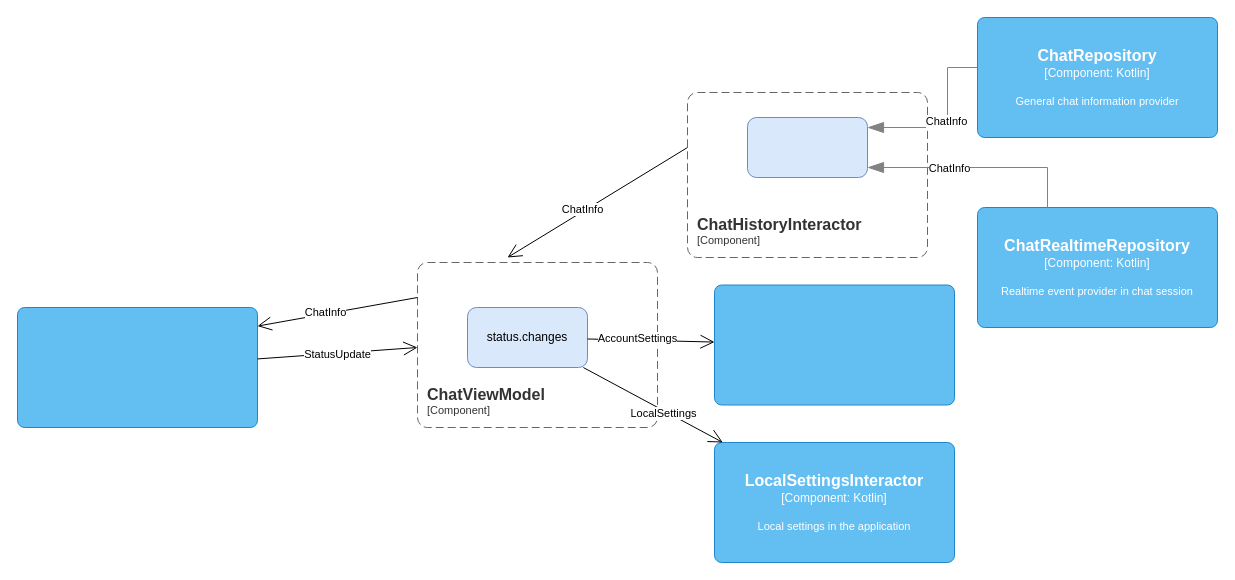
The diagram is 1235 pixels wide and 580 high, and some of its shapes have lost their labels. Each missing label, with the centre of its shape:
"AccountSettingsInteractor [Component: Kotlin] Synced account settings" belongs at pixel 834 344.
"chat.merge" belongs at pixel 807 147.
"ChatFragment [Component: Kotlin] Chat screen with user" belongs at pixel 137 367.
